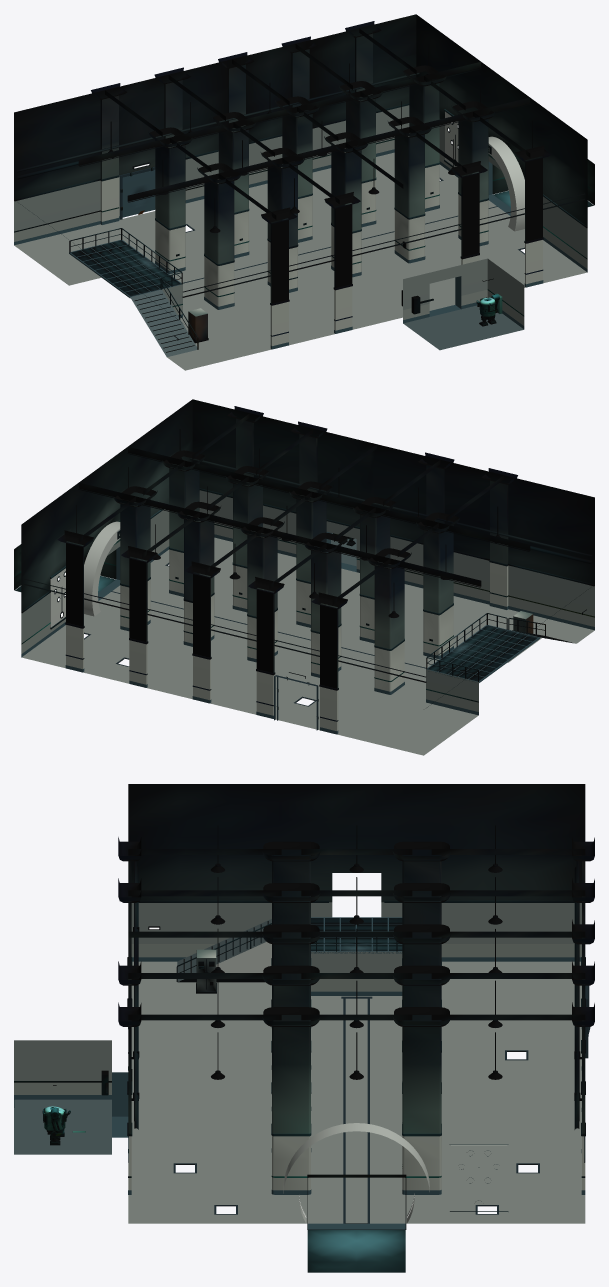
Rendered from env_lift_hall.glb.
3 views of the same model, one above another, from view 1: azimuth 30°, elevation 25°; view 2: azimuth 150°, elevation 25°; view 3: azimuth 270°, elevation 25° (orthographic). The views are drawn at different scales.
Visible parts, largest first — view 1: chunk_lh_hall__m_pellam, chunk_lh_hall__m_mask; view 2: chunk_lh_hall__m_pellam, chunk_lh_hall__m_mask; view 3: chunk_lh_hall__m_pellam, chunk_lh_hall__m_mask.
Boxes of the visible parts, bbox=[...] form: chunk_lh_hall__m_pellam: bbox=[14, 14, 594, 370]; chunk_lh_hall__m_mask: bbox=[71, 192, 432, 295]; chunk_lh_hall__m_pellam: bbox=[14, 399, 594, 755]; chunk_lh_hall__m_mask: bbox=[175, 577, 536, 681]; chunk_lh_hall__m_pellam: bbox=[14, 784, 594, 1272]; chunk_lh_hall__m_mask: bbox=[198, 918, 402, 985].
Bounding box in the file's own units: 45.04 × 12.04 × 35.6.
